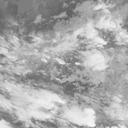cyclone: (37, 34, 98, 73)
